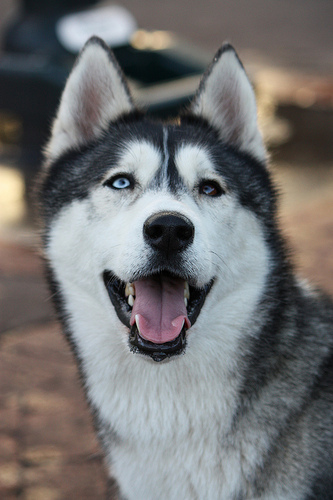dog: (32, 32, 331, 498)
